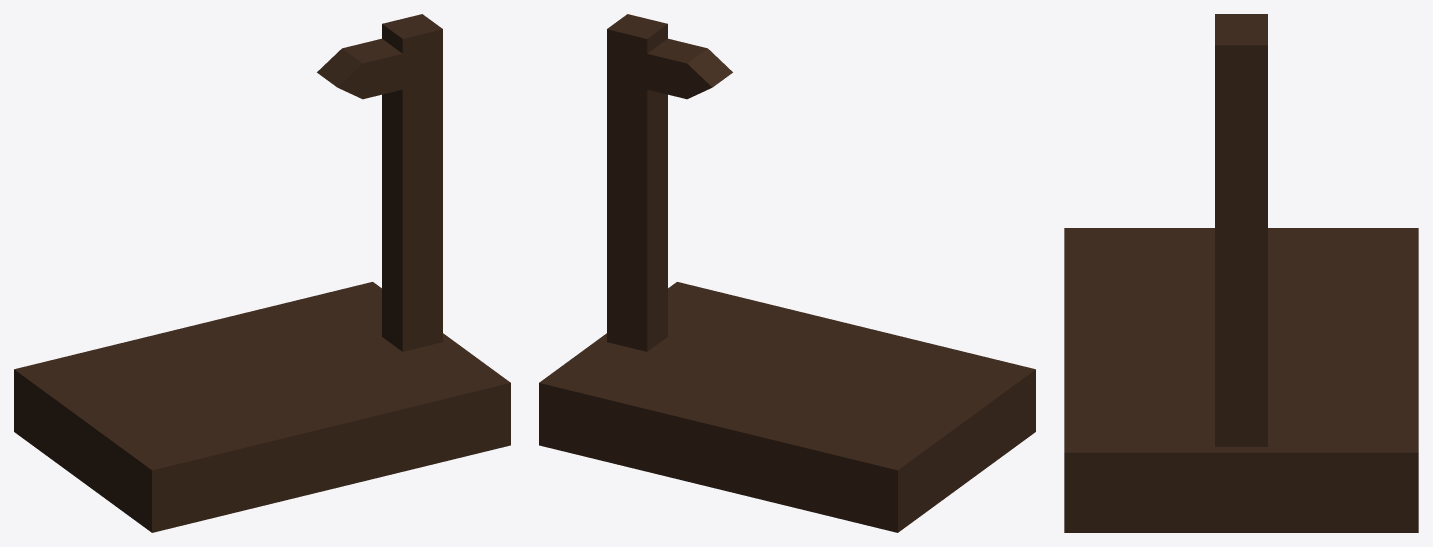
File: trenbekleme.fbx
The picture shows the model from 3 angles, left to right: view 1: azimuth 30°, elevation 25°; view 2: azimuth 150°, elevation 25°; view 3: azimuth 270°, elevation 25°; orthographic projection. The views are drawn at different scales.
Visible parts, largest first — view 1: Cube; view 2: Cube; view 3: Cube.
Part boxes in pixels (x1=…): Cube: x1=14, y1=14, x2=510, y2=532; Cube: x1=539, y1=14, x2=1035, y2=532; Cube: x1=1064, y1=14, x2=1418, y2=532.
Bounding box in the file's own units: 600 × 600 × 400.
